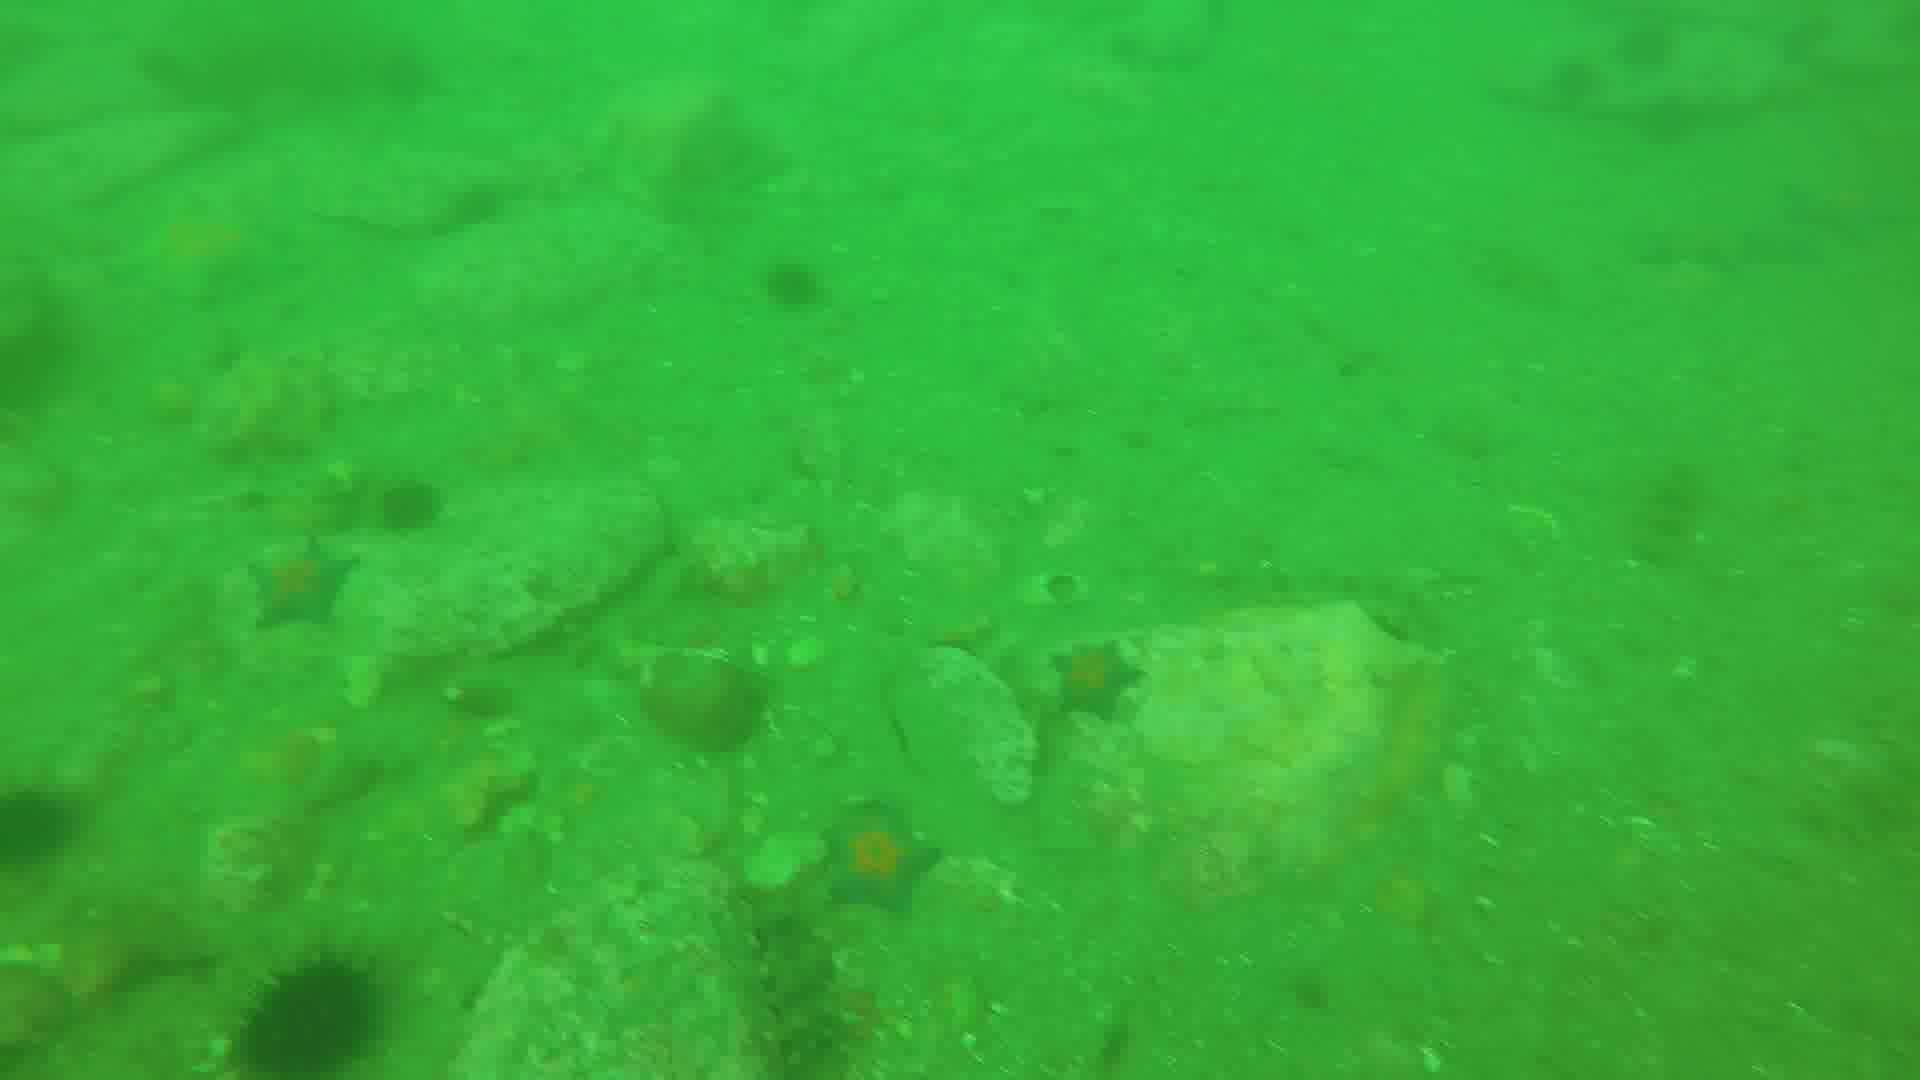echinus: (245, 943, 375, 1080), (1, 793, 87, 866), (765, 258, 835, 315), (372, 473, 439, 520)
holothurian: (748, 909, 858, 1080)
starfish: (827, 804, 942, 920), (255, 535, 363, 632), (1050, 640, 1142, 717)
